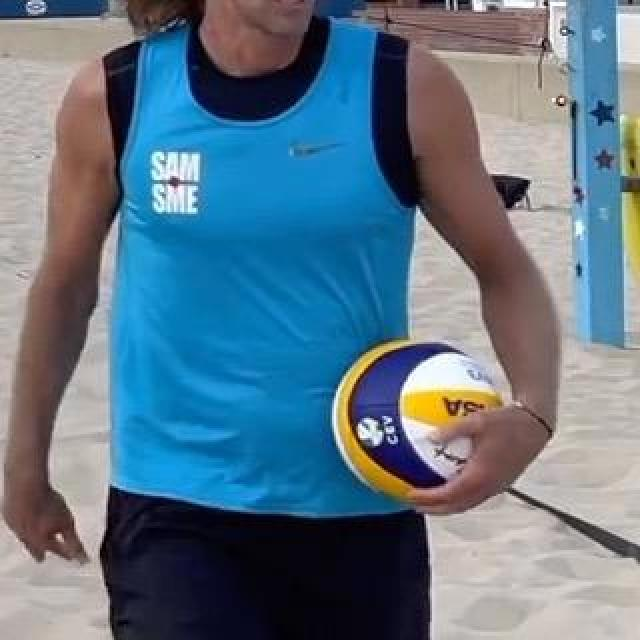volleyball: (330, 336, 506, 508)
